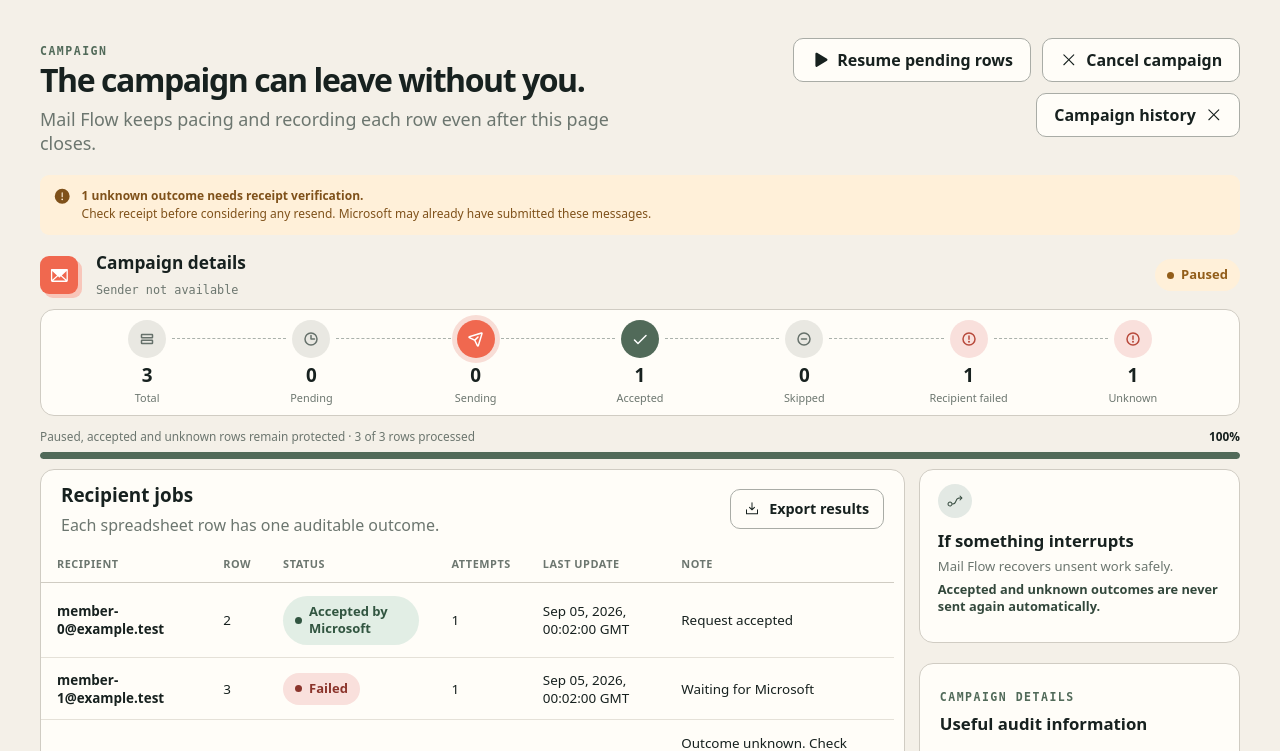
Test case: campaign cancellation and activity clarity › can dismiss cancellation without a request and retains a retryable error
Click the button "Cancel campaign" at [1141, 60], box [1042,38,1240,82]
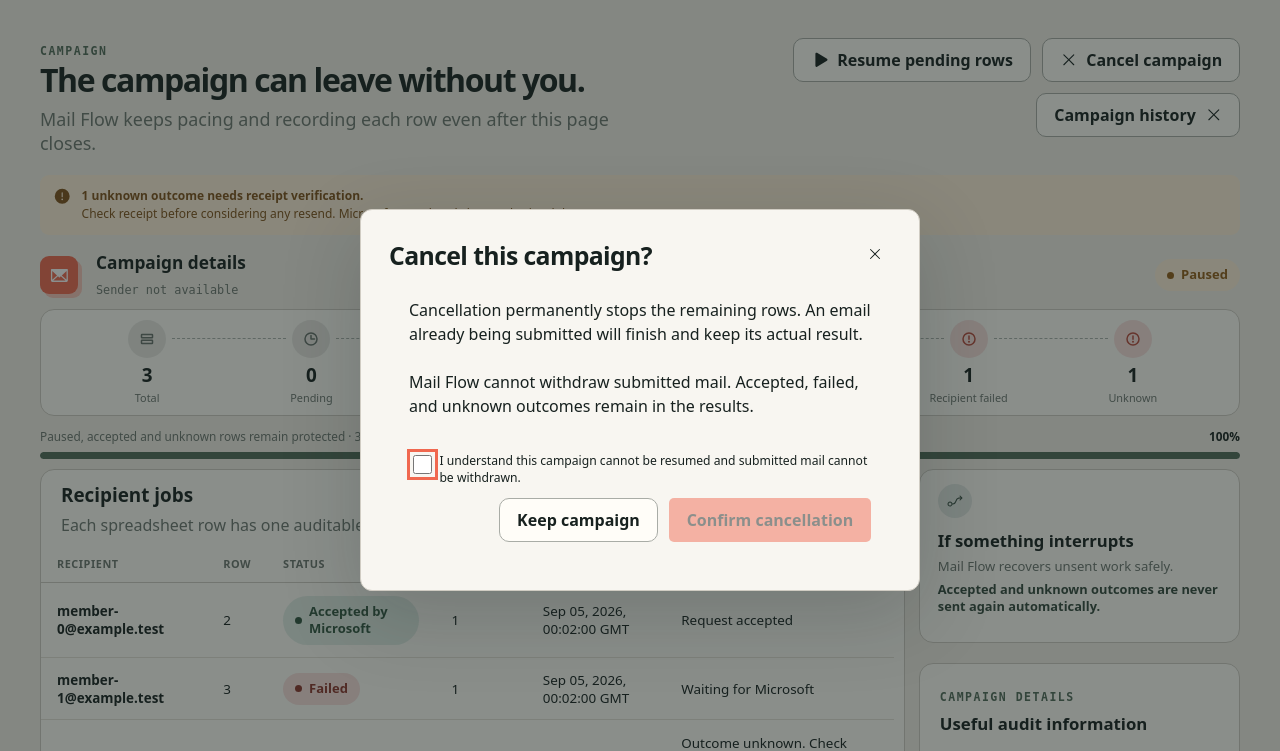
Click the button "Keep campaign" at [578, 520], box [499,498,658,542]
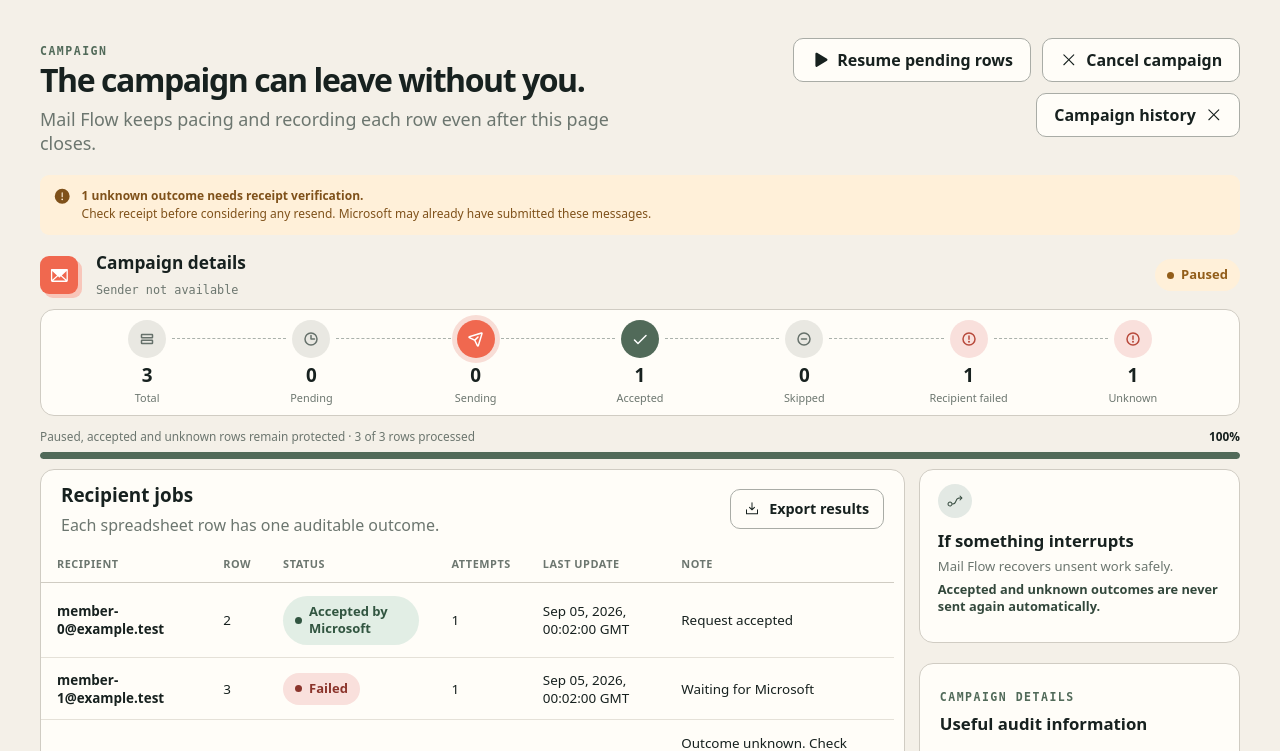
Result: the dialog is gone
Click the button "Cancel campaign" at [1141, 60], box [1042,38,1240,82]
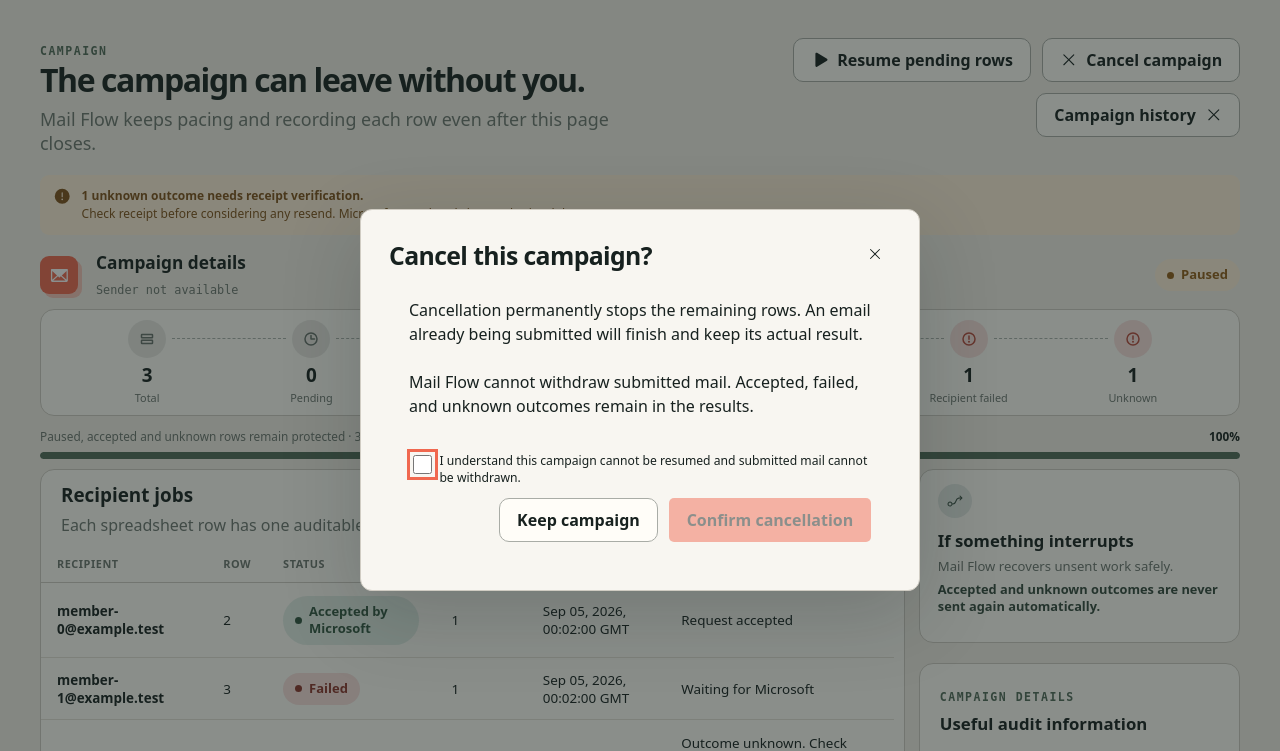
Click the checkbox at [422, 464], box [413,455,432,474]
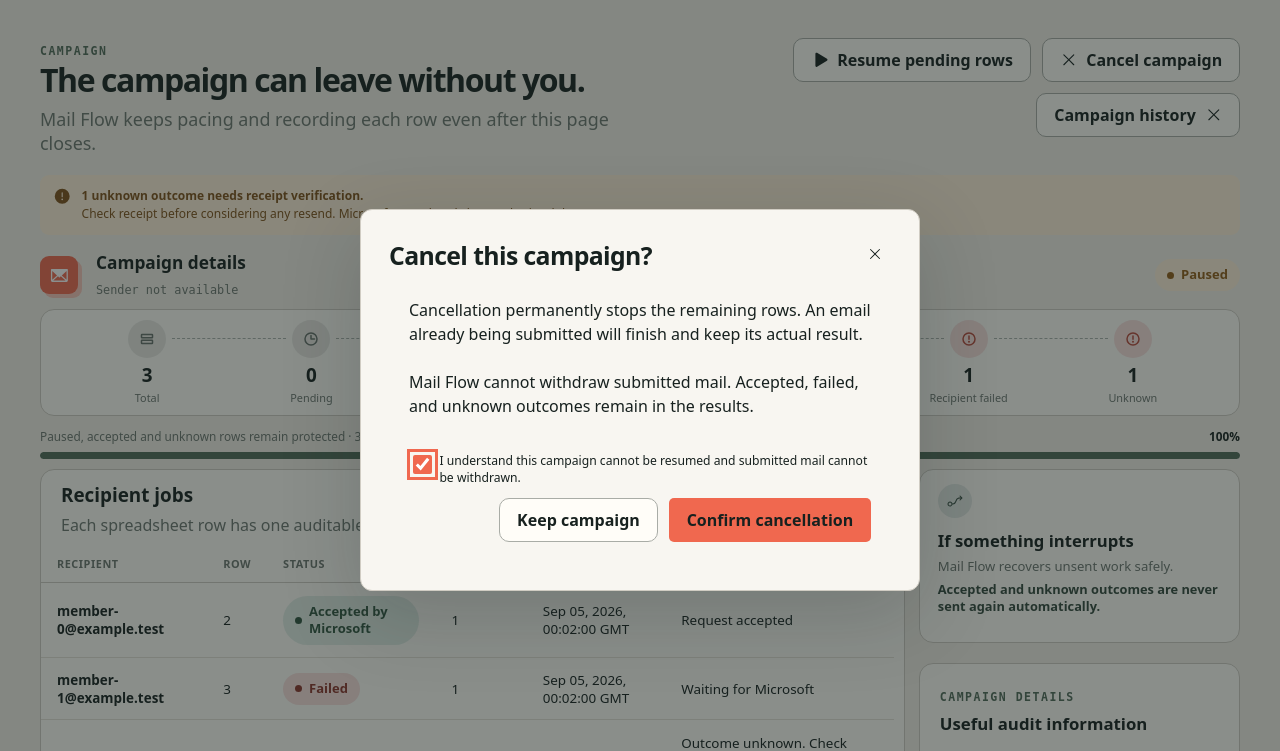
Click the button "Confirm cancellation" at [770, 520], box [669,498,871,542]
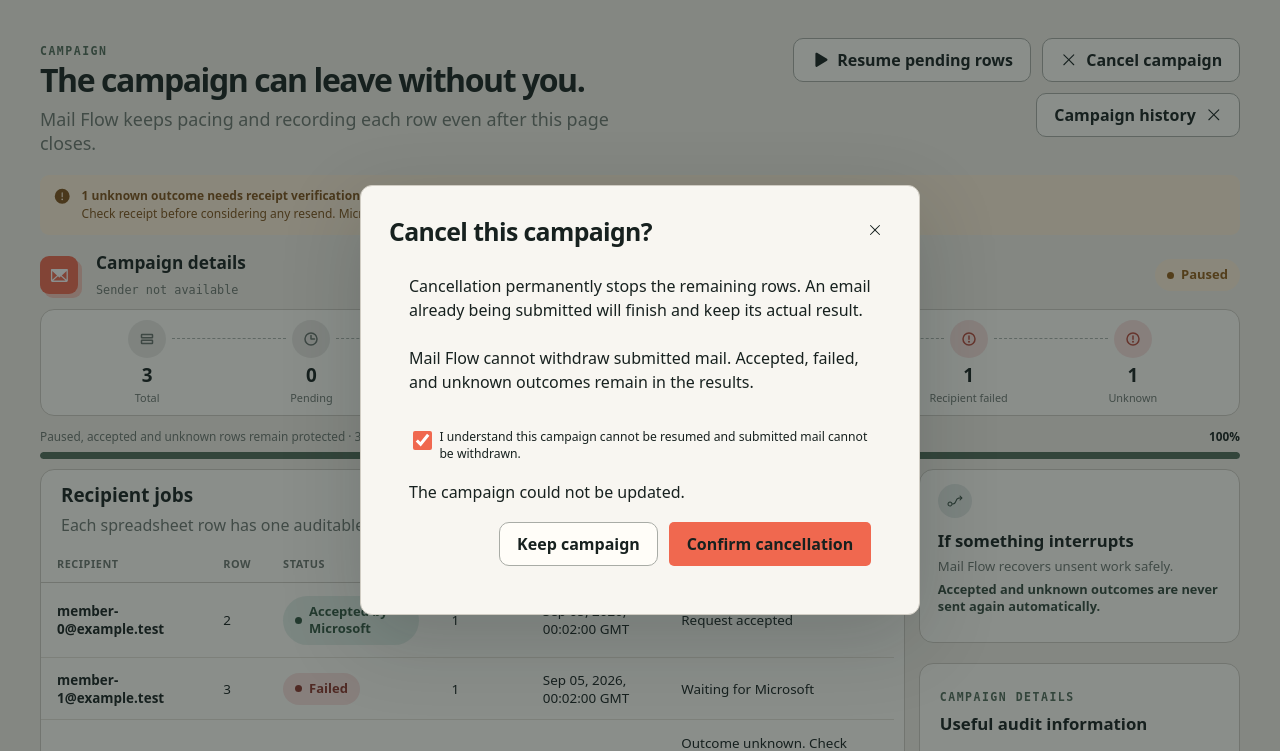
Result: the button "Confirm cancellation" is enabled at [669,522,871,566]
Result: the message "The campaign could not be updated." is shown at [409,481,685,503]
